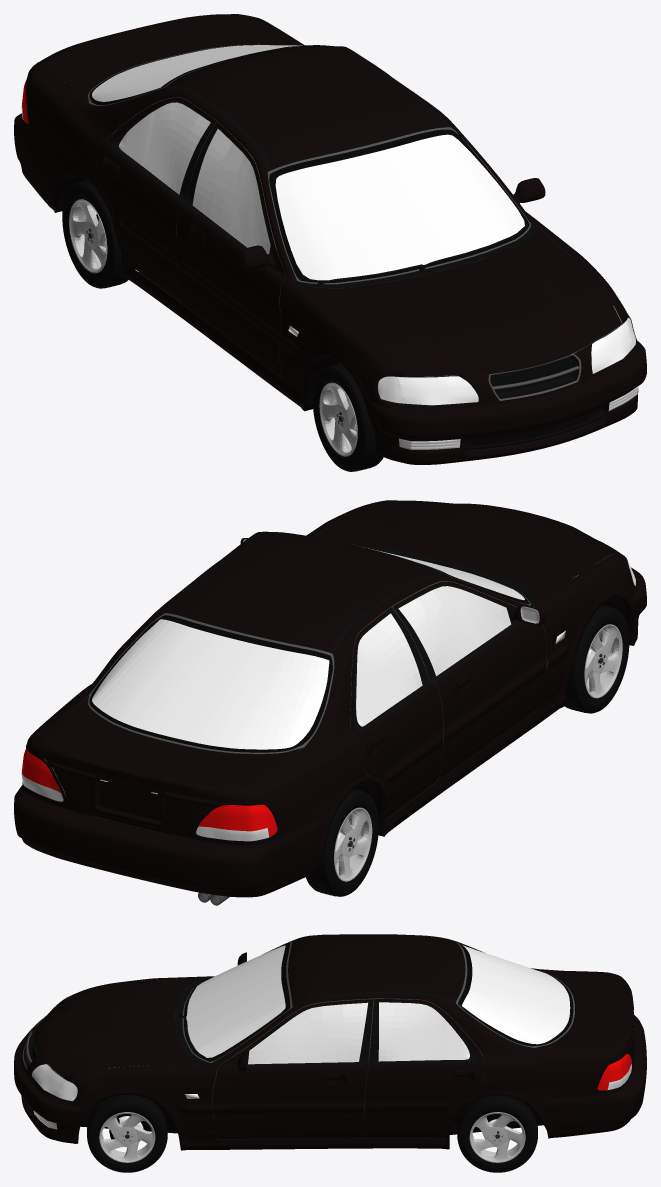
The picture shows the model from 3 angles, top to bottom: view 1: azimuth 30°, elevation 25°; view 2: azimuth 150°, elevation 25°; view 3: azimuth 270°, elevation 25°; orthographic projection. The views are drawn at different scales.
Visible parts, largest first — view 1: Body_Circle, Windows_Circle.003, Headlights_Circle.001, Tire.002_Cylinder.008, Tire.003_Cylinder.012, Disk.003_Cylinder.013, Disk.002_Cylinder.009, Interior_Plane; view 2: Body_Circle, Windows_Circle.003, Headlights_R_Circle.002, Tire.002_Cylinder.008, Tire.003_Cylinder.012, Disk.002_Cylinder.009, Disk.003_Cylinder.013, Interior_Plane; view 3: Body_Circle, Windows_Circle.003, Tire_Cylinder.003, Tire.001_Cylinder.004, Disk_Cylinder, Disk.001_Cylinder.005, Headlights_Circle.001, Headlights_R_Circle.002, Interior_Plane.
Part boxes in pixels (x1,y1,x2,y2): Body_Circle: [14, 14, 646, 464]; Windows_Circle.003: [89, 45, 529, 282]; Headlights_Circle.001: [378, 317, 638, 449]; Tire.002_Cylinder.008: [312, 363, 383, 471]; Tire.003_Cylinder.012: [62, 178, 135, 288]; Disk.003_Cylinder.013: [69, 199, 107, 273]; Disk.002_Cylinder.009: [319, 382, 357, 456]; Interior_Plane: [87, 97, 570, 375]; Body_Circle: [14, 500, 646, 905]; Windows_Circle.003: [89, 535, 529, 752]; Headlights_R_Circle.002: [21, 748, 277, 841]; Tire.002_Cylinder.008: [565, 605, 629, 713]; Tire.003_Cylinder.012: [306, 788, 378, 896]; Disk.002_Cylinder.009: [584, 624, 622, 698]; Disk.003_Cylinder.013: [334, 807, 372, 881]; Interior_Plane: [68, 524, 566, 825]; Body_Circle: [14, 934, 646, 1150]; Windows_Circle.003: [184, 942, 573, 1064]; Tire_Cylinder.003: [87, 1095, 167, 1172]; Tire.001_Cylinder.004: [457, 1095, 537, 1172]; Disk_Cylinder: [99, 1112, 155, 1162]; Disk.001_Cylinder.005: [469, 1112, 525, 1162]; Headlights_Circle.001: [32, 1012, 77, 1129]; Headlights_R_Circle.002: [597, 1053, 631, 1090]; Interior_Plane: [153, 942, 553, 1137].
Bounding box in the file's own units: 1.98 × 1.41 × 4.88.
